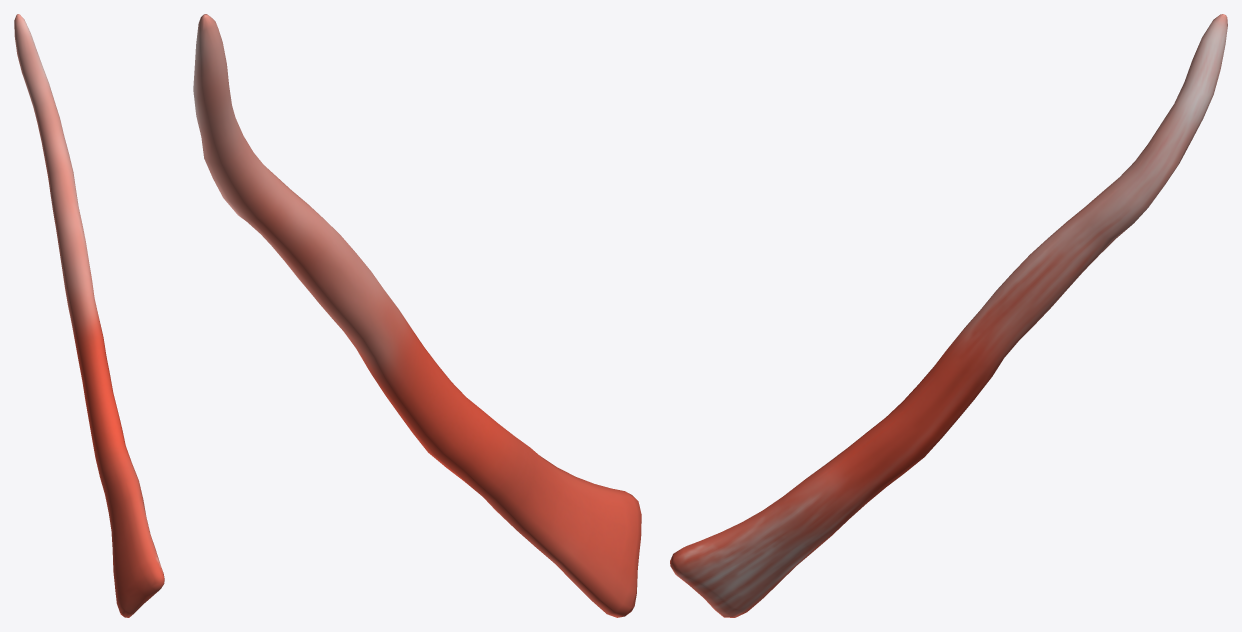
File: Zygomaticus 2.glb
3 views of the same model, side by side, from view 1: azimuth 30°, elevation 25°; view 2: azimuth 150°, elevation 25°; view 3: azimuth 270°, elevation 25° (orthographic). The views are drawn at different scales.
Parts seen in each view (by area): view 1: Zygomaticus 2.glb; view 2: Zygomaticus 2.glb; view 3: Zygomaticus 2.glb.
Part boxes in pixels (x1=…): Zygomaticus 2.glb: x1=14, y1=14, x2=164, y2=617; Zygomaticus 2.glb: x1=193, y1=14, x2=641, y2=617; Zygomaticus 2.glb: x1=670, y1=14, x2=1227, y2=617.
Bounding box in the file's own units: 0.0602 × 0.2876 × 0.224.
1 material, 1 textured.
